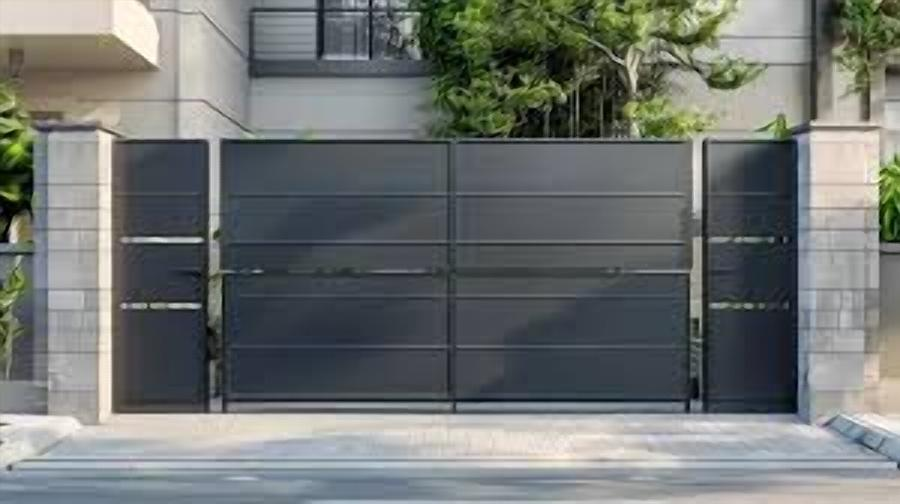Gate: (110, 135, 799, 418)
Window-without-grill: (318, 0, 425, 58)
